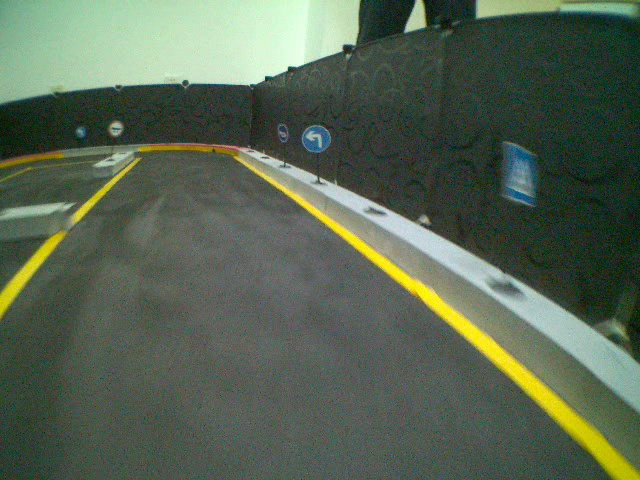Check: (108, 120, 125, 137)
horn: (273, 121, 293, 144)
turn: (301, 122, 332, 153), (74, 124, 88, 141)
